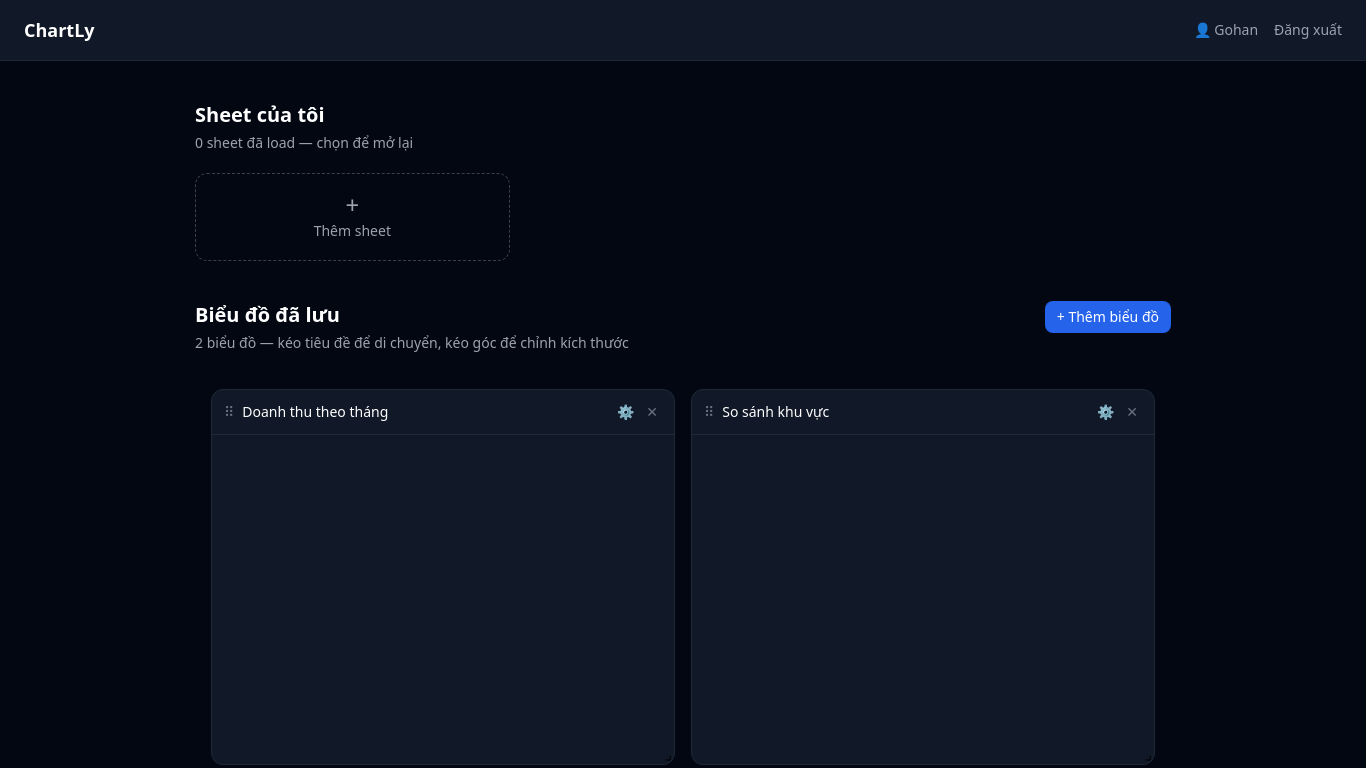
Test: DashboardPage › mở panel tuỳ chỉnh khi bấm ⚙
Expected: the text "Doanh thu theo tháng" is shown, [242, 402, 388, 422]
Click the button named "Tuỳ chỉnh Doanh thu theo tháng" at (626, 412), box [613, 398, 638, 426]
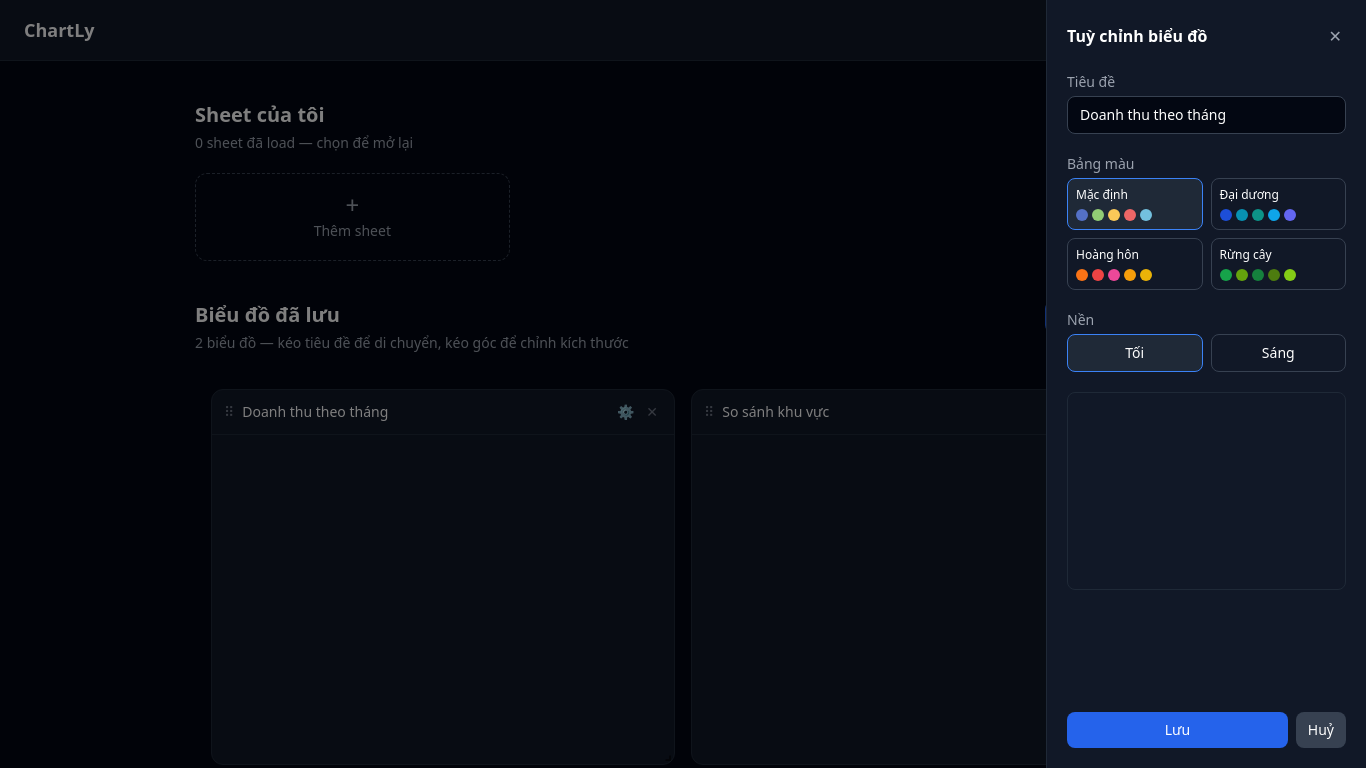
Expected: the dialog "Tuỳ chỉnh biểu đồ" is shown, [1046, 0, 1365, 767]
